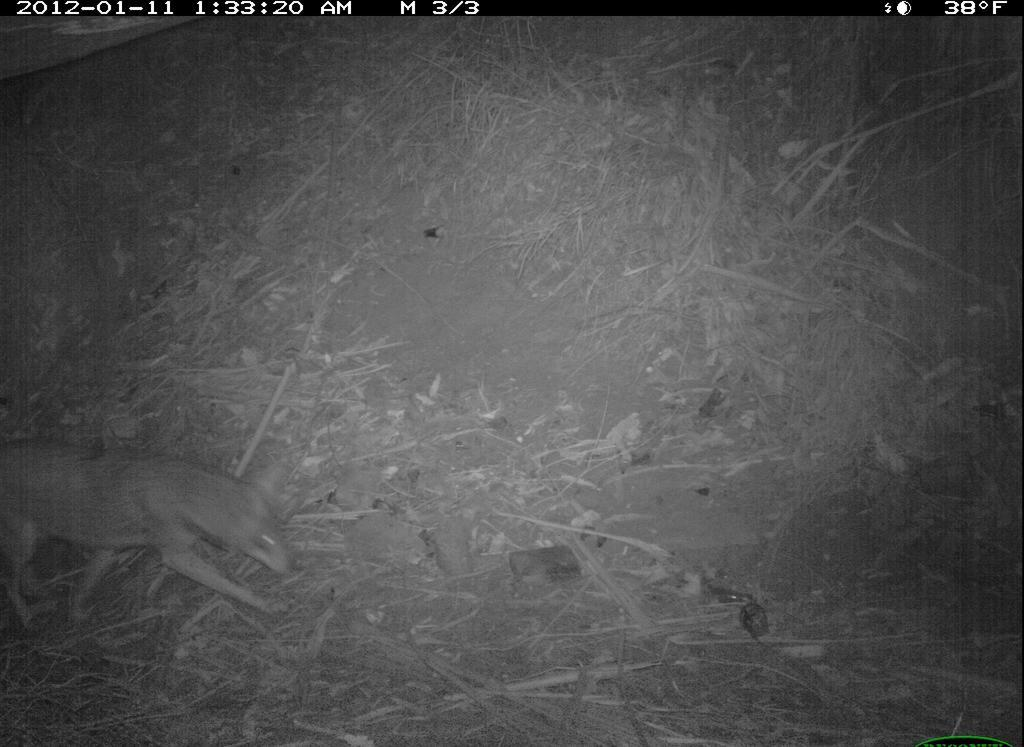coyote: (6, 441, 318, 638)
